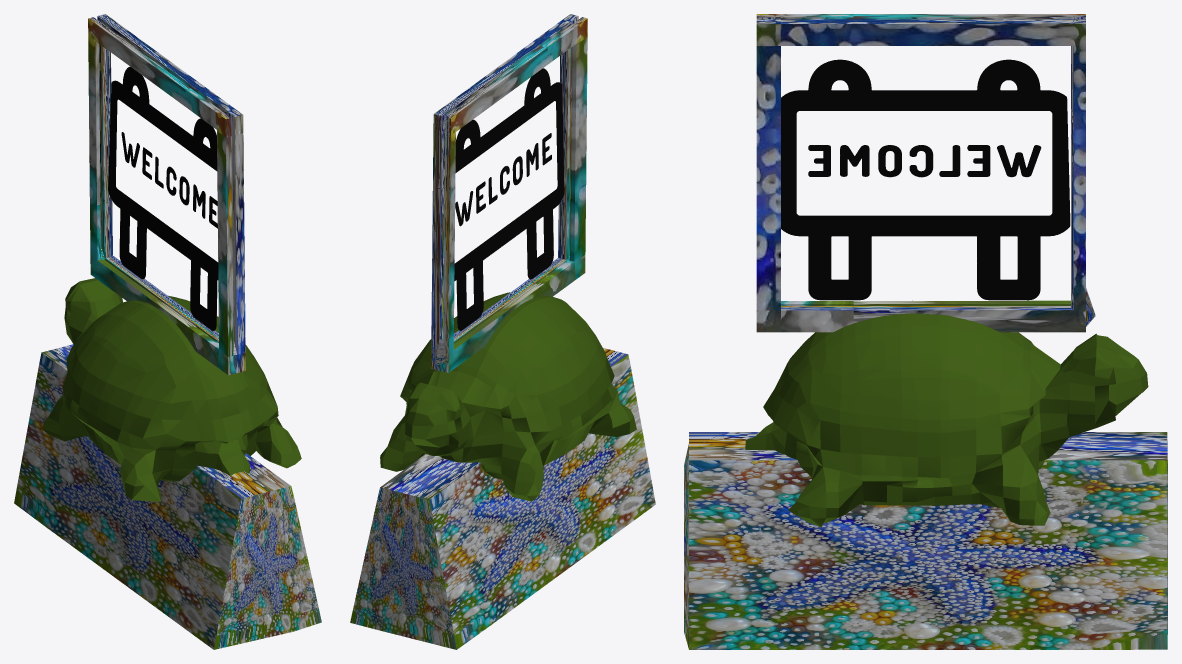
Rendered from welcome.obj.
The picture shows the model from 3 angles, left to right: view 1: azimuth 30°, elevation 25°; view 2: azimuth 150°, elevation 25°; view 3: azimuth 270°, elevation 25°; orthographic projection. The views are drawn at different scales.
Parts seen in each view (by area): view 1: banner:_TargetHolder_Turtle_V1, banner:pPlane1; view 2: banner:_TargetHolder_Turtle_V1, banner:pPlane1; view 3: banner:_TargetHolder_Turtle_V1, banner:pPlane1.
Boxes of the visible parts, <box> form: banner:_TargetHolder_Turtle_V1: <box>14,14,321,649</box>; banner:pPlane1: <box>108,66,218,330</box>; banner:_TargetHolder_Turtle_V1: <box>350,14,655,649</box>; banner:pPlane1: <box>454,68,564,330</box>; banner:_TargetHolder_Turtle_V1: <box>684,14,1167,649</box>; banner:pPlane1: <box>781,59,1070,300</box>.
Size of the model in its own units: 1.18 by 3.33 by 2.44.
2 materials, 2 textured.
